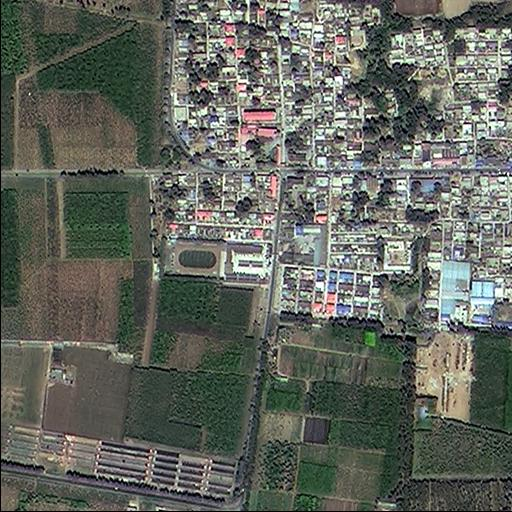school: (158, 239, 266, 288)
